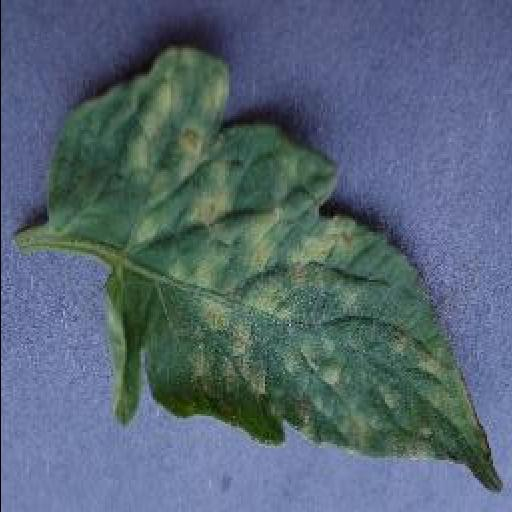disease_tomato: (44, 51, 504, 491)
